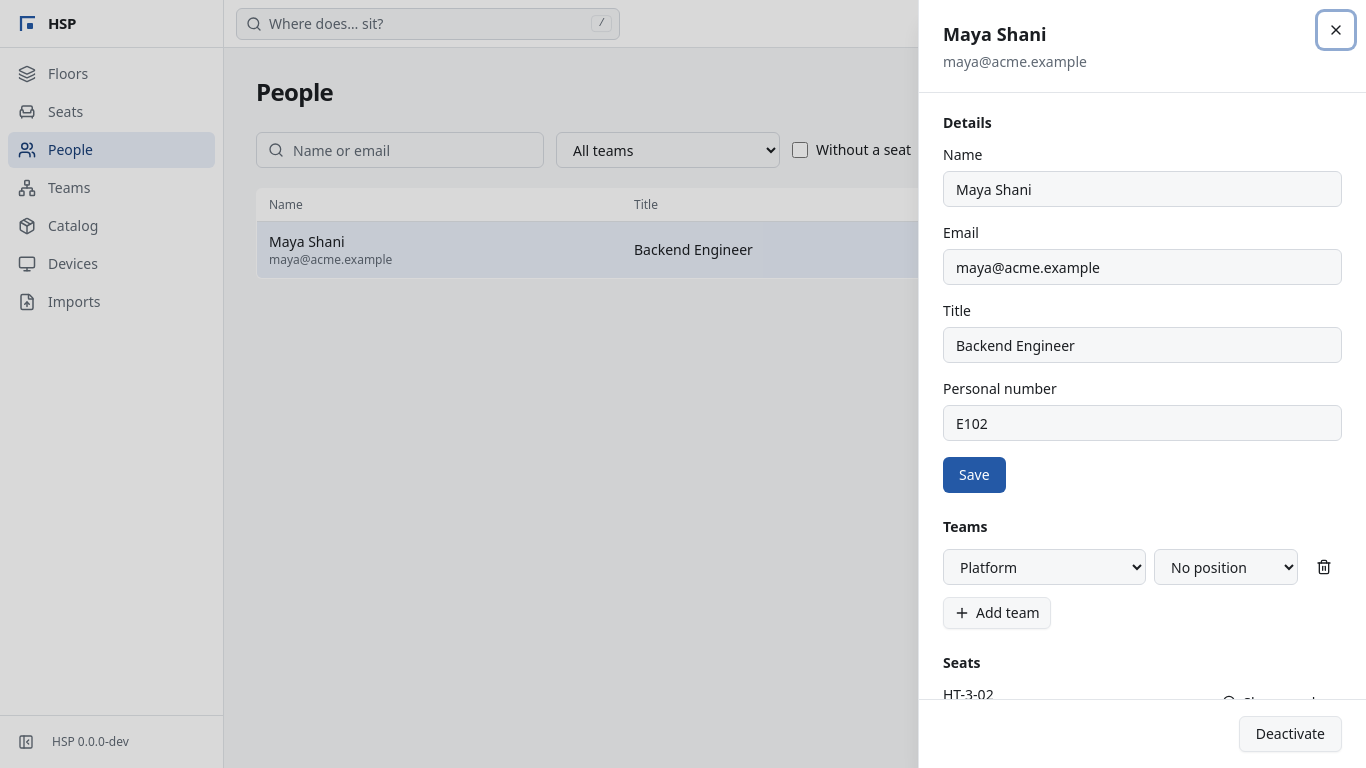
Test: people (docs/0088) › in several teams, the primary one must be chosen
The width and height of the screenshot is (1366, 768).
Click the button "Add team". click: click(997, 613)
box: x1=943 y1=597 x2=1051 y2=629
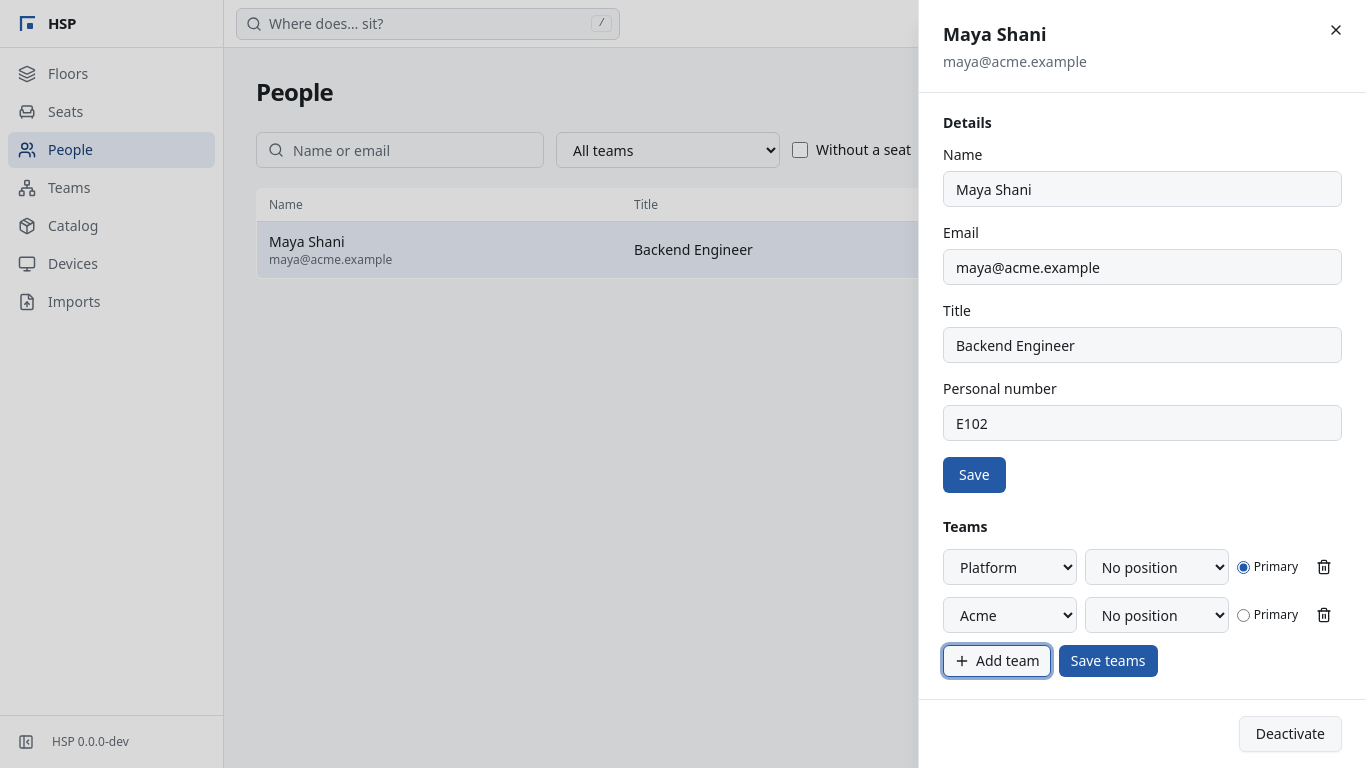
Click the button "Save teams". click: click(1108, 661)
box: x1=1059 y1=645 x2=1158 y2=677
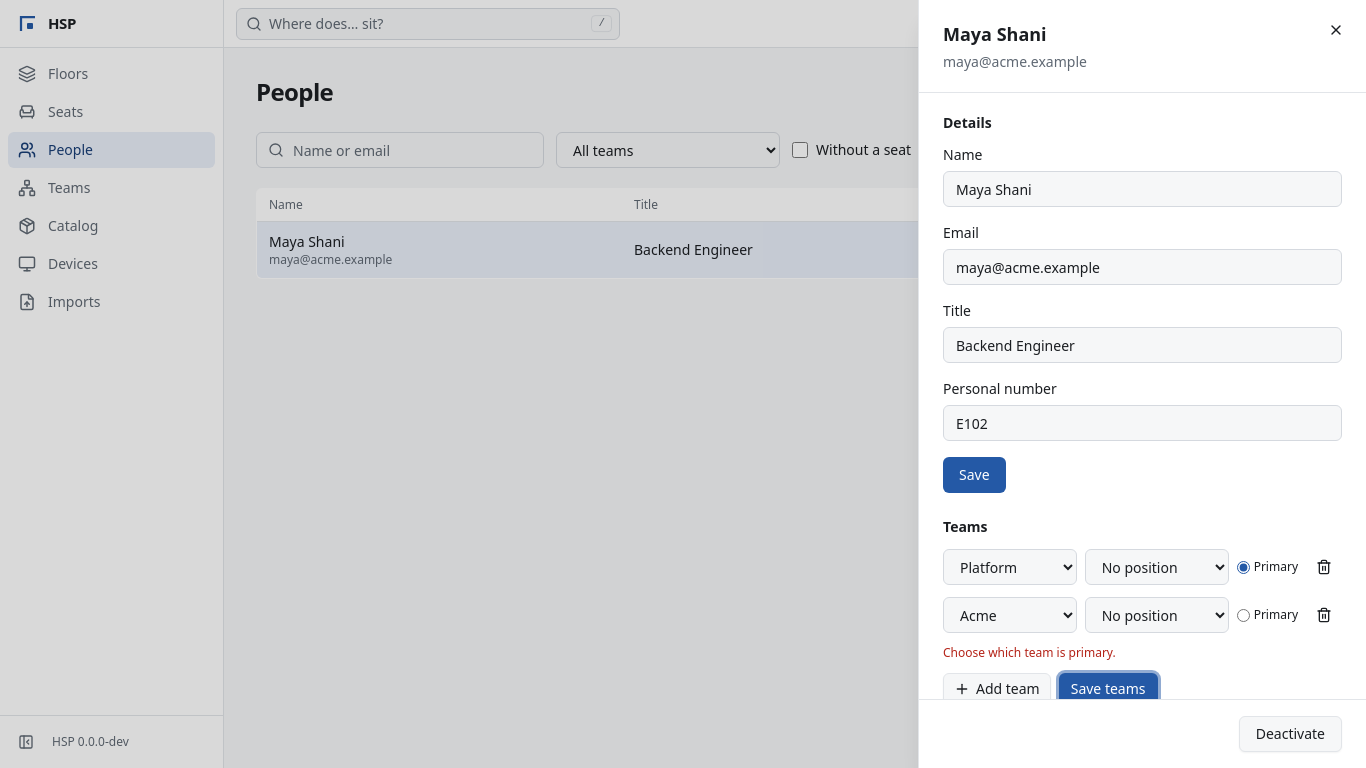
Expected: the message reads "Choose which team is primary.", x1=943 y1=644 x2=1116 y2=661
